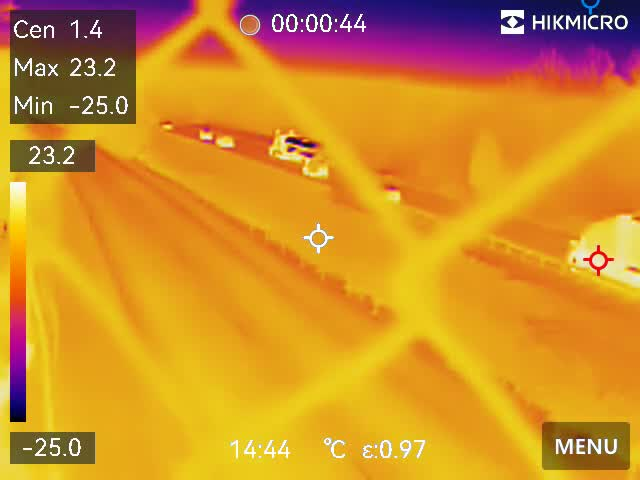heavyTruck: (564, 204, 640, 289), (264, 128, 332, 161)
vehicle: (301, 158, 331, 180), (214, 133, 233, 151), (154, 119, 177, 130), (195, 127, 213, 140)
